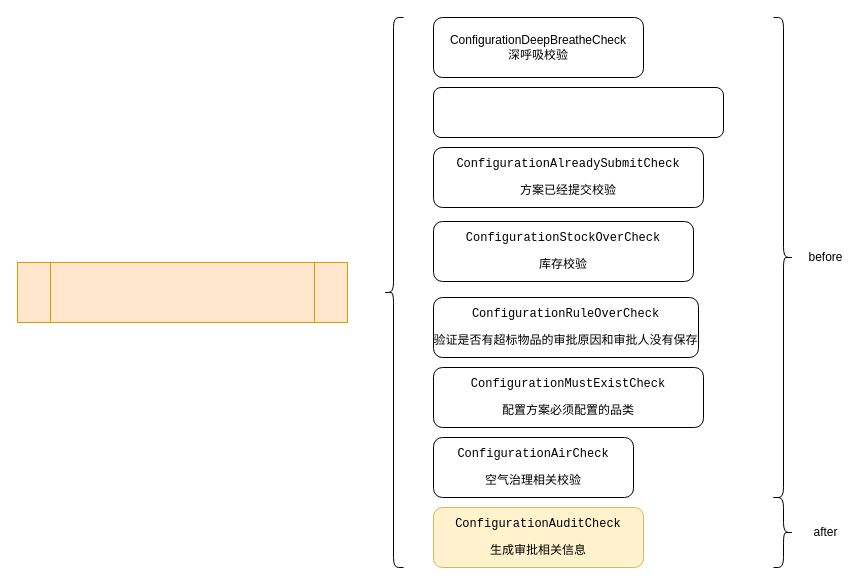
Some shapes in this 868 by 587 pixel diagram are drawn without their labels. The shapes that lost their labels are listed below. From the top down, each one's centre as x and y in pixels, then its label:
At (x=578, y=112): "ConfigurationUploadHouseImgCheck 手绘户型图校验".
At (x=182, y=292): "ConfigurationSubmitContext#runCheck（方法） 执行校验".
